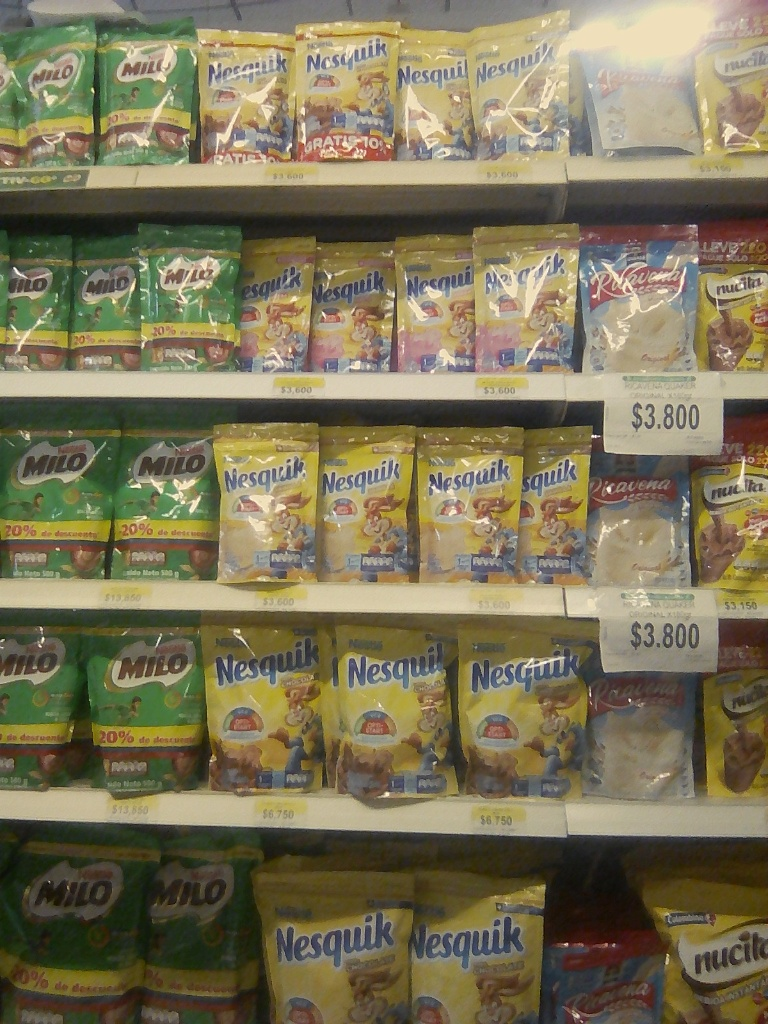COL0170203DYP25000: (136, 220, 244, 372)
COL0170203DYP50000: (86, 608, 209, 804)
COL0170303DYP20000: (395, 22, 477, 164)
COL0170305DYP20000: (229, 232, 315, 370)
COL0170306DYP20000: (209, 417, 322, 586)
